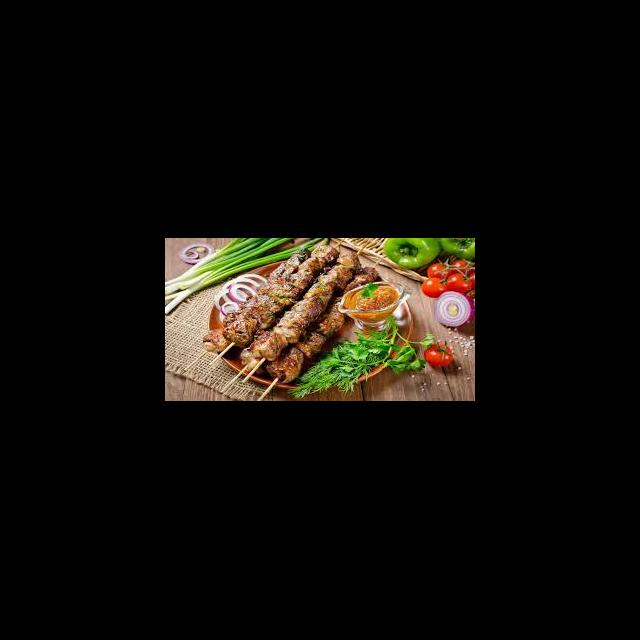food_waste: (254, 281, 348, 344)
